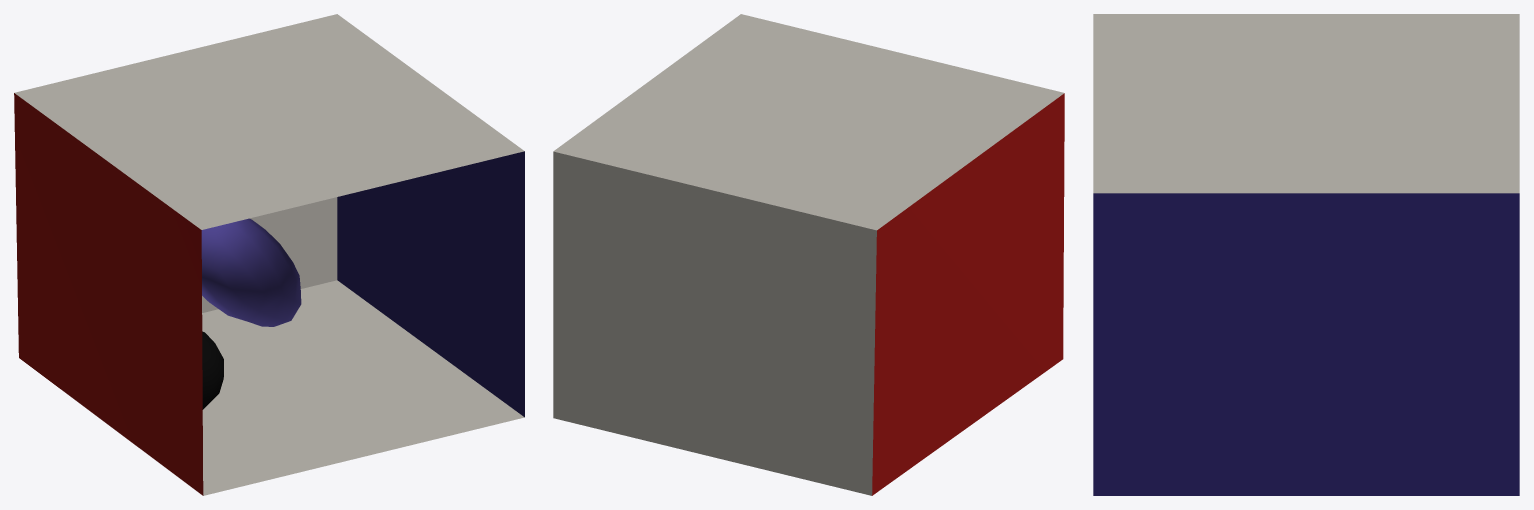
Rendered from CornellBox-Ellipsoid-233.obj.
3 renders of one model, left to right at view 1: azimuth 30°, elevation 25°; view 2: azimuth 150°, elevation 25°; view 3: azimuth 270°, elevation 25°, orthographic. The views are drawn at different scales.
Visible parts, largest first — view 1: ceiling, leftWall, floor, rightWall, leftSphere, backWall, rightSphere; view 2: backWall, ceiling, leftWall; view 3: rightWall, ceiling.
Part boxes in pixels (bbox=[...]): ceiling: bbox=[14, 14, 524, 229]; leftWall: bbox=[14, 93, 203, 495]; floor: bbox=[202, 280, 524, 495]; rightWall: bbox=[337, 151, 524, 417]; leftSphere: bbox=[201, 218, 301, 326]; backWall: bbox=[202, 197, 337, 312]; rightSphere: bbox=[202, 331, 223, 409]; backWall: bbox=[553, 151, 876, 495]; ceiling: bbox=[553, 14, 1064, 230]; leftWall: bbox=[872, 93, 1064, 495]; rightWall: bbox=[1093, 193, 1519, 495]; ceiling: bbox=[1093, 14, 1519, 193].
Size of the model in its own units: 2.02 by 1.59 by 2.03.
